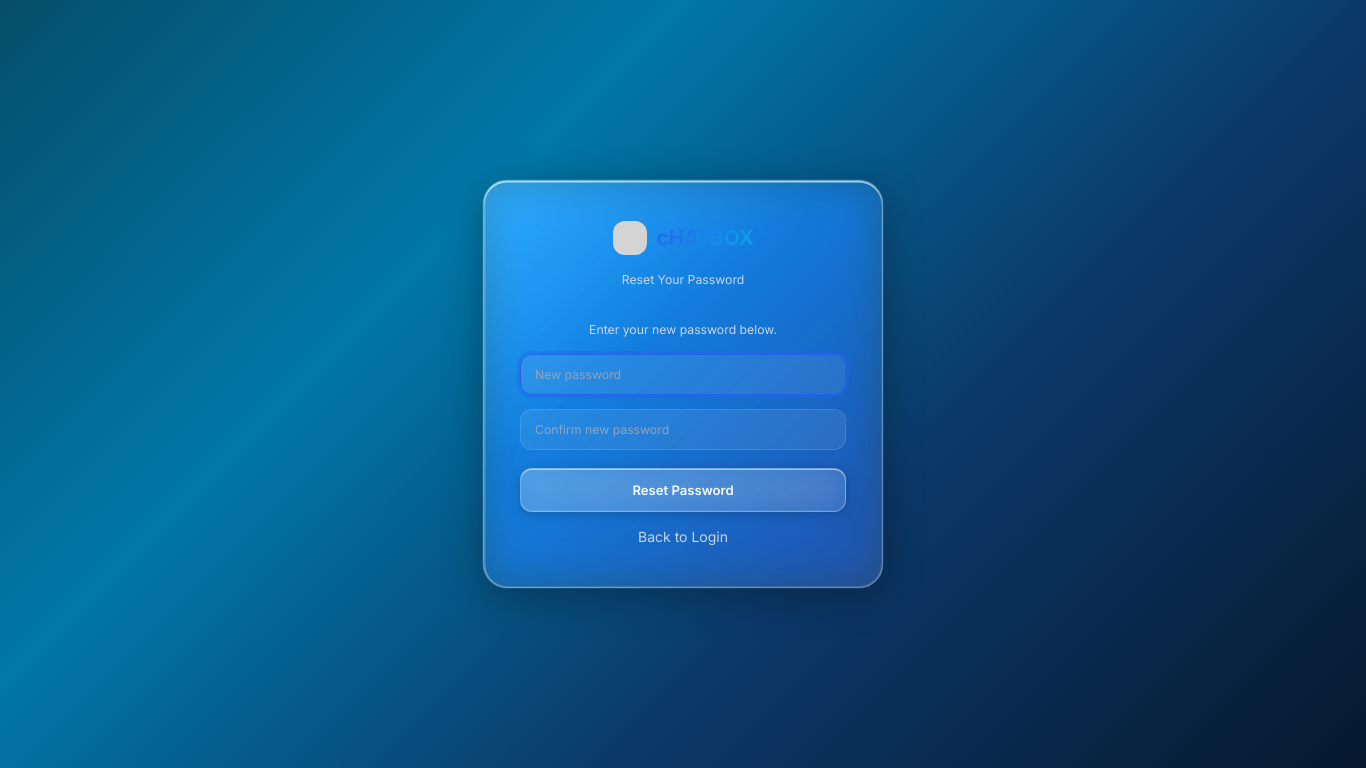
Scenario: ResetPasswordPage › shows error when passwords do not match
Step 1. Type "x-val-a" into the password field with test id "reset-new-password" → [683, 374], box [520,354,846,395]
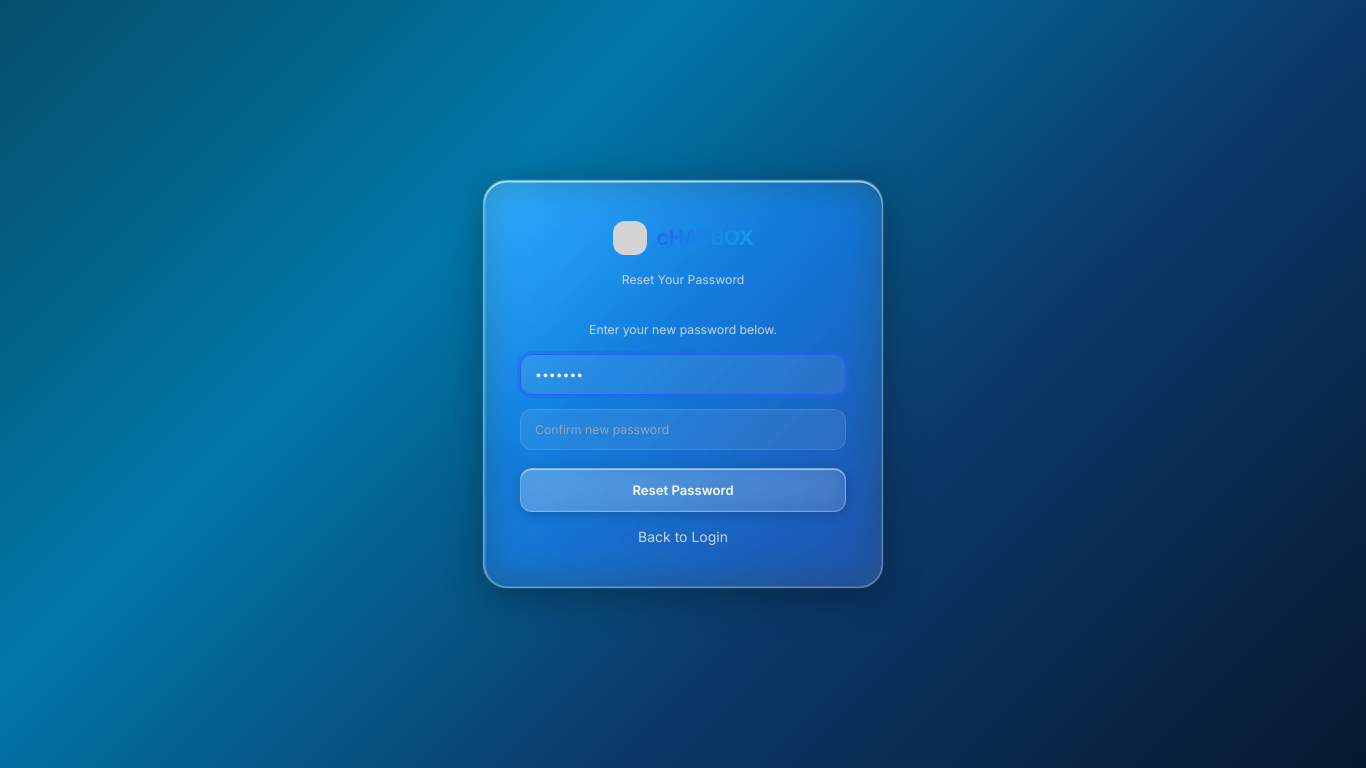
Step 2. Type "x-val-b" into the password field with test id "reset-confirm-password" → [683, 429], box [520,409,846,450]
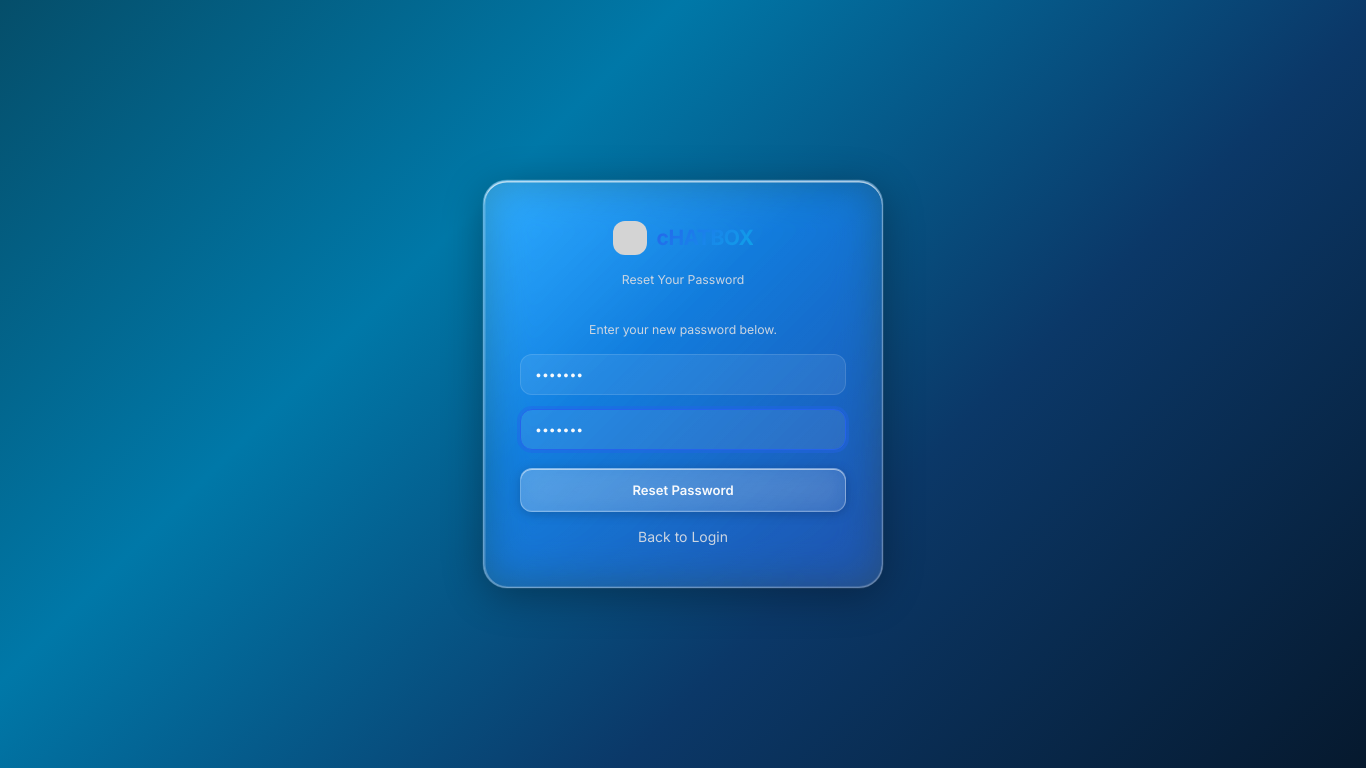
Step 3. Click the button "Reset Password" → [683, 490], box [520,468,846,512]
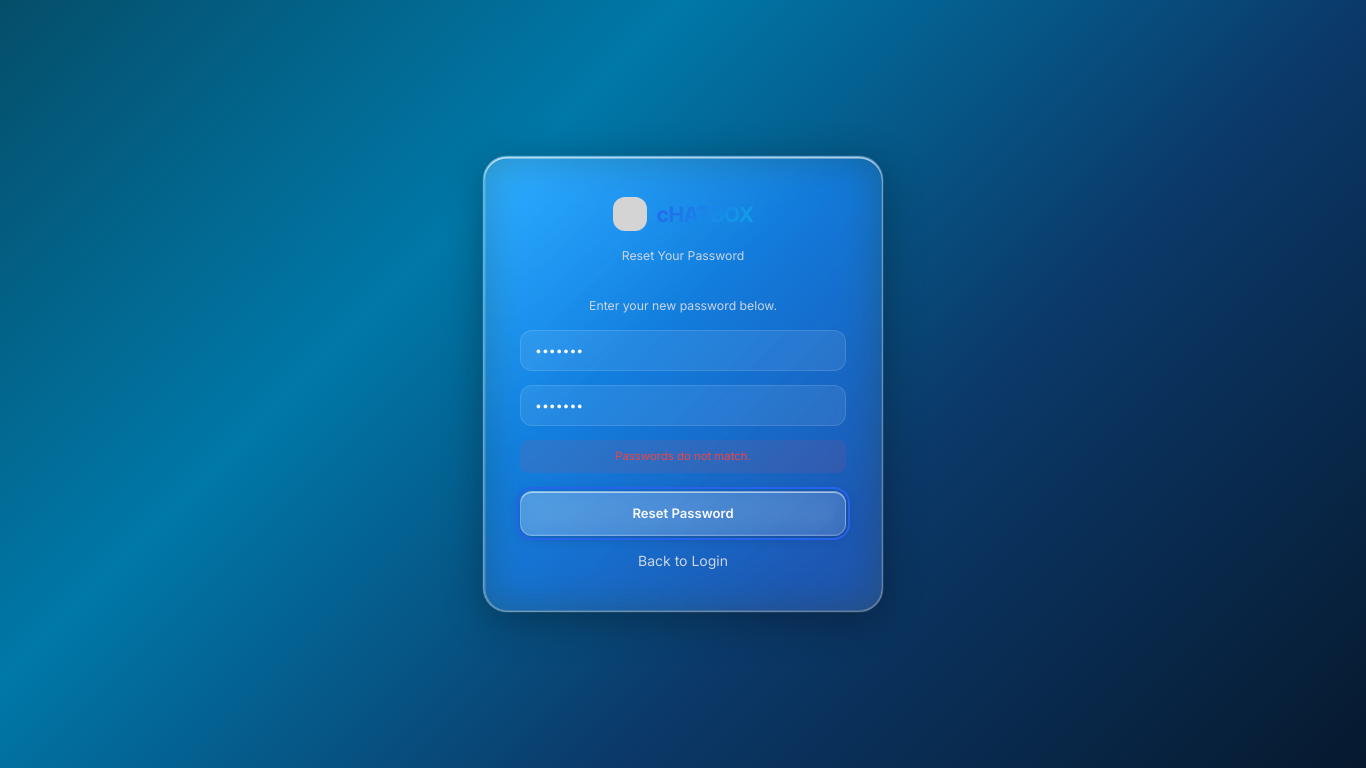
expect the text "Passwords do not match." is shown: met, box [520,440,846,473]
